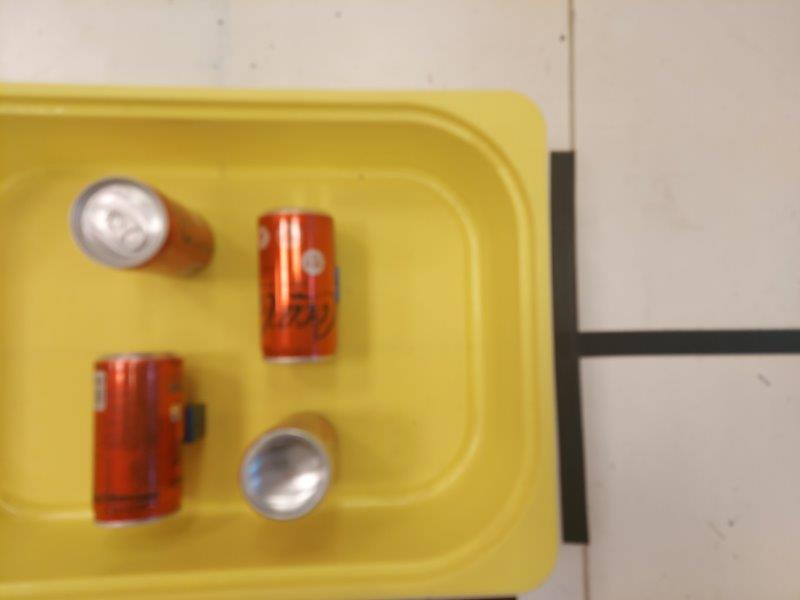Coke: (90, 354, 185, 528), (67, 178, 215, 278), (257, 209, 336, 362), (237, 412, 339, 521)
